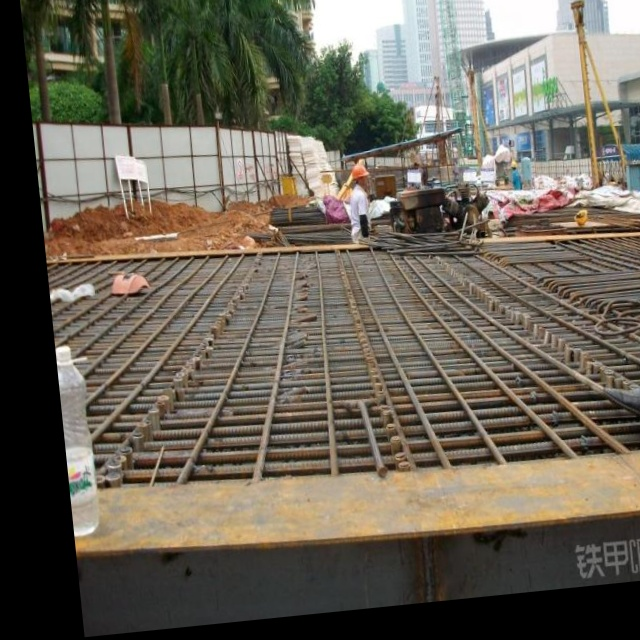Con_Casco: (352, 162, 371, 186)
Sin_Chaleco: (346, 188, 374, 239)
